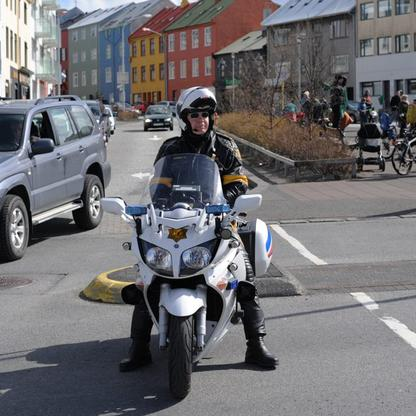target: (97, 86, 279, 403)
